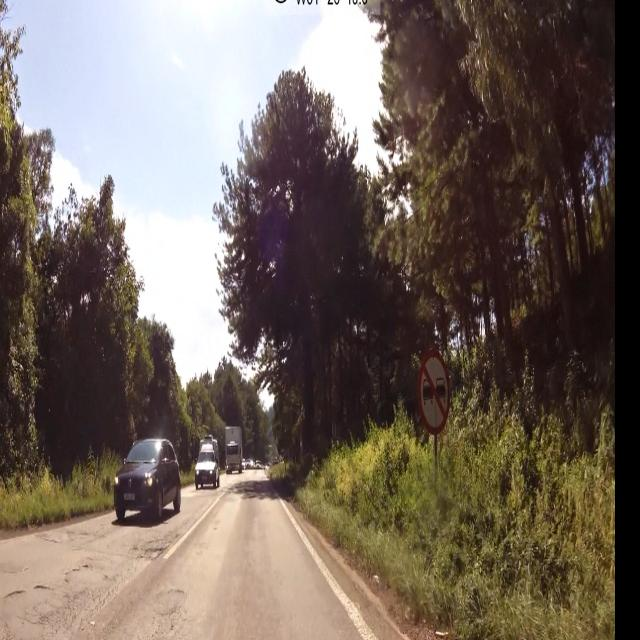R-7: (417, 350, 453, 441)
